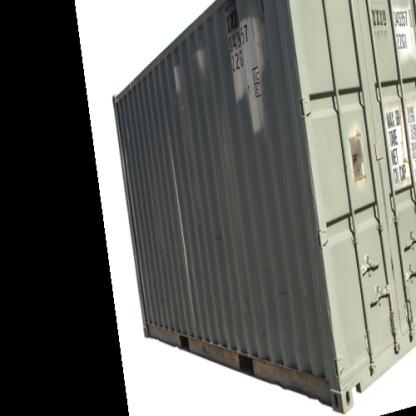Damage: (200, 349, 350, 393)
